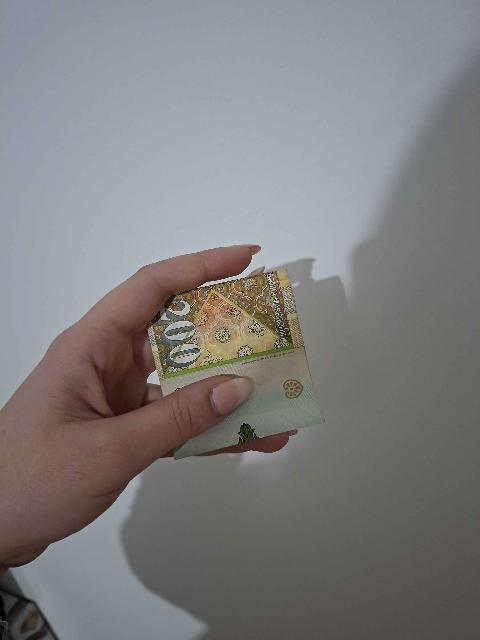200_note: (149, 270, 323, 458)
